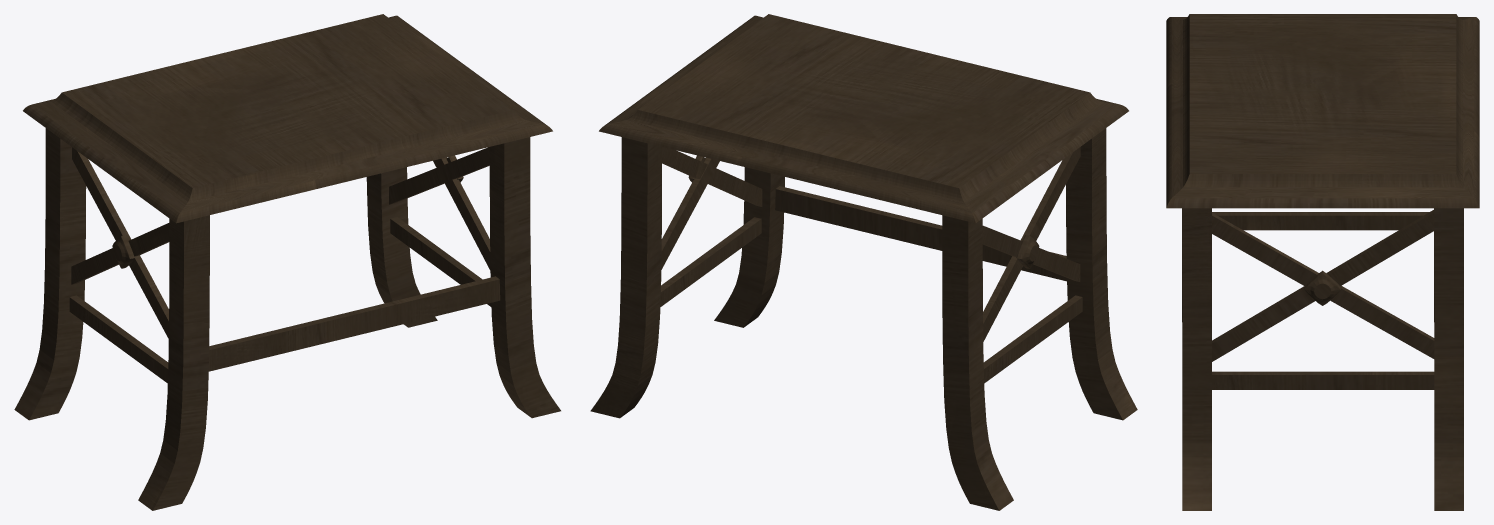
File: table2.obj
The picture shows the model from 3 angles, left to right: view 1: azimuth 30°, elevation 25°; view 2: azimuth 150°, elevation 25°; view 3: azimuth 270°, elevation 25°; orthographic projection.
Parts seen in each view (by area): view 1: Sehpa_Cube; view 2: Sehpa_Cube; view 3: Sehpa_Cube.
Part boxes in pixels (x1,y1,x2,y2): Sehpa_Cube: (14,14,560,510); Sehpa_Cube: (590,14,1137,510); Sehpa_Cube: (1166,14,1479,510).
Size of what is drawn, in the model's own units: 3.22 by 2.33 by 2.1.
